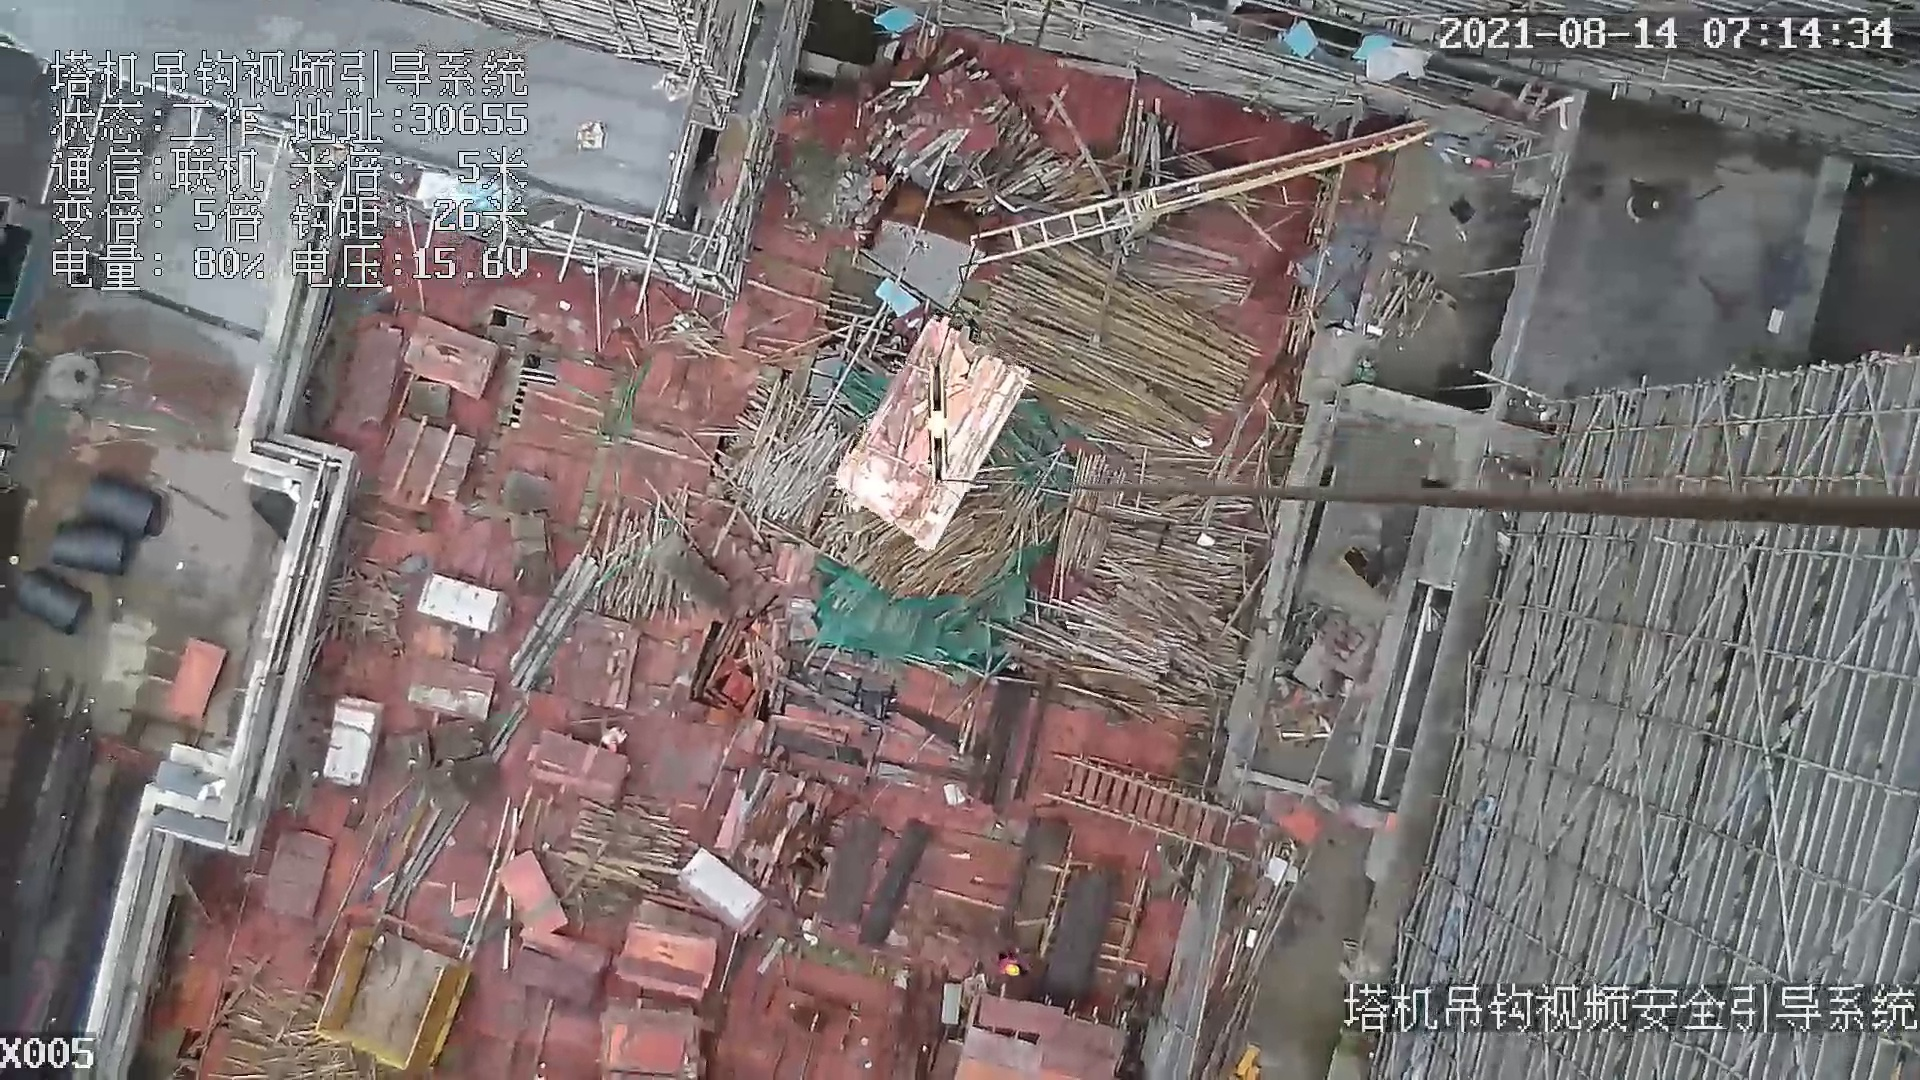hook: (915, 356, 960, 483)
